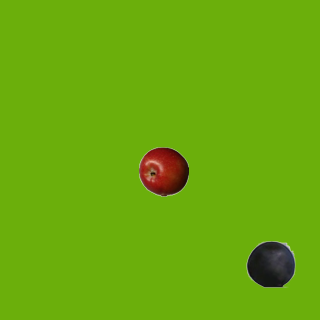Apple Braeburn: (138, 146, 188, 196)
Grape Blue: (245, 238, 295, 288)
